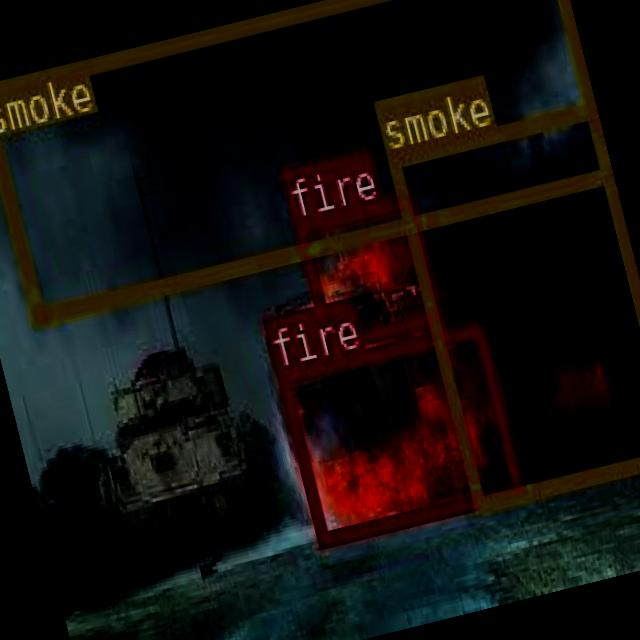fire: (274, 320, 522, 546), (290, 189, 442, 352)
smoke: (0, 0, 609, 321), (385, 100, 640, 507)
